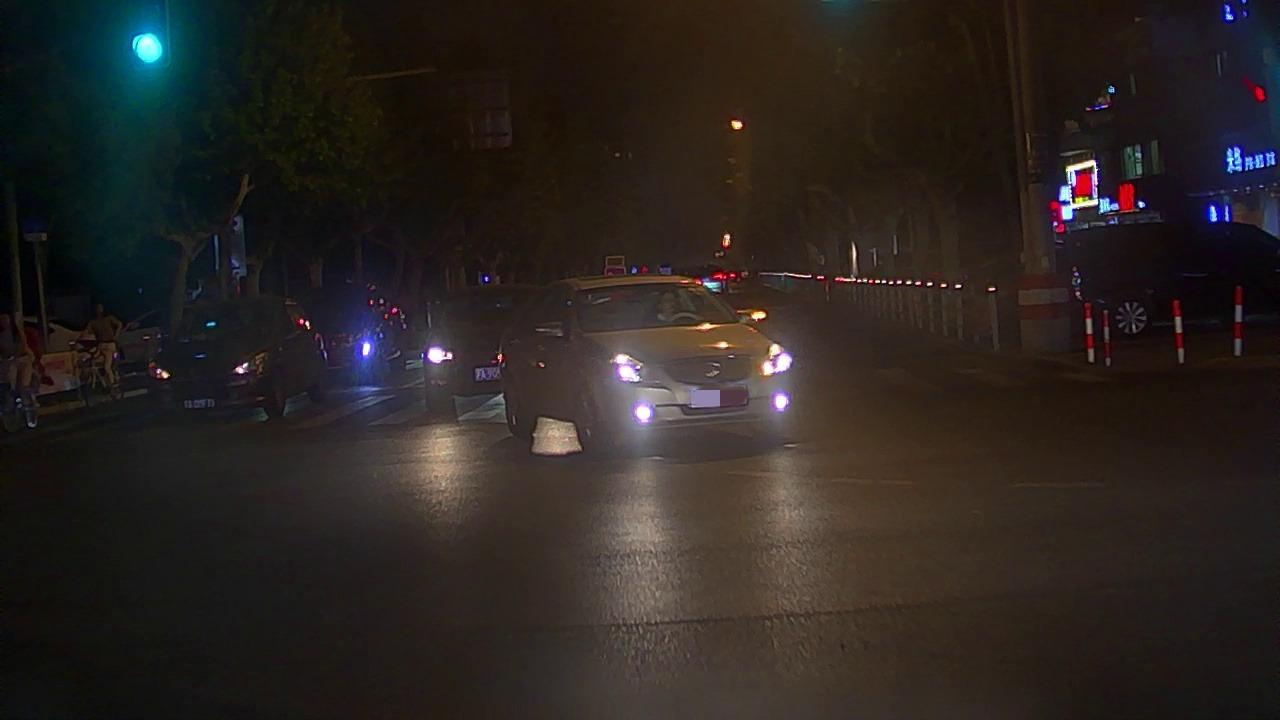traffic_light: (126, 22, 170, 71)
